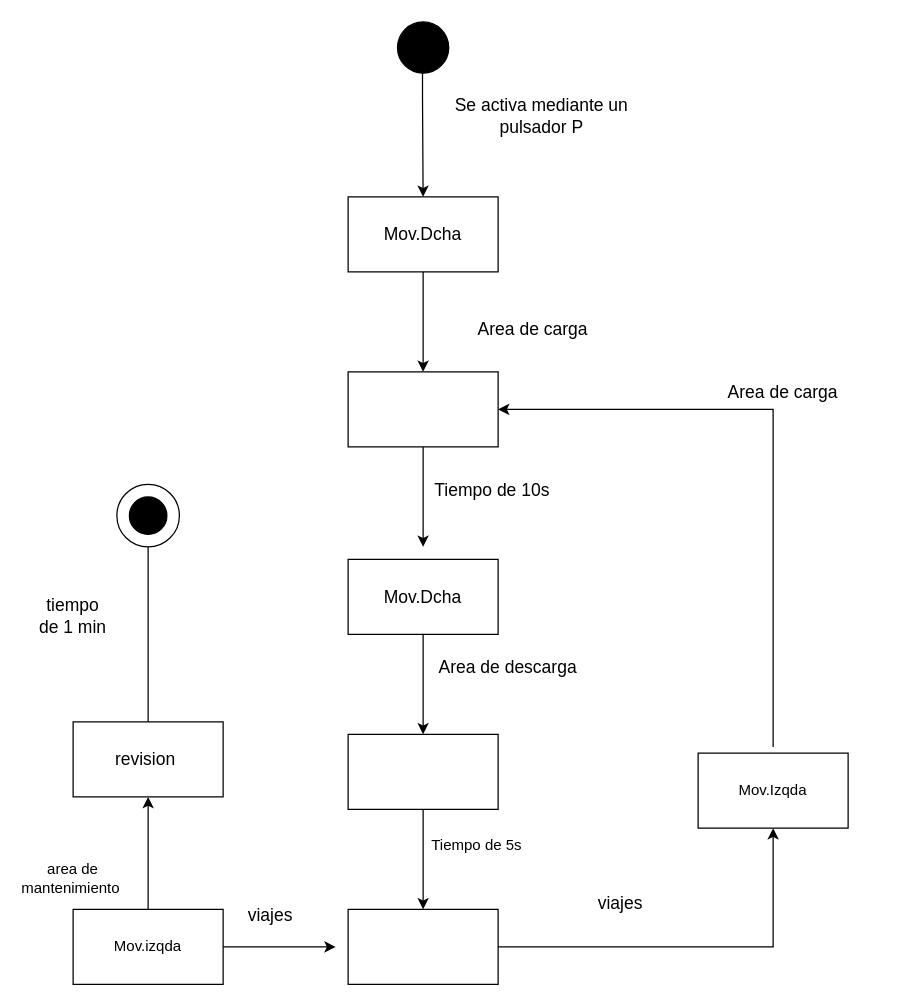
The diagram is 919 pixels wide and 1006 high, and some of its shapes have lost their labels. Here are the shapes that lost their labels. From the top down, the centre of each, then its label:
[422,409]: Carga
[422,771]: Descarga
[422,946]: inicia viajes
